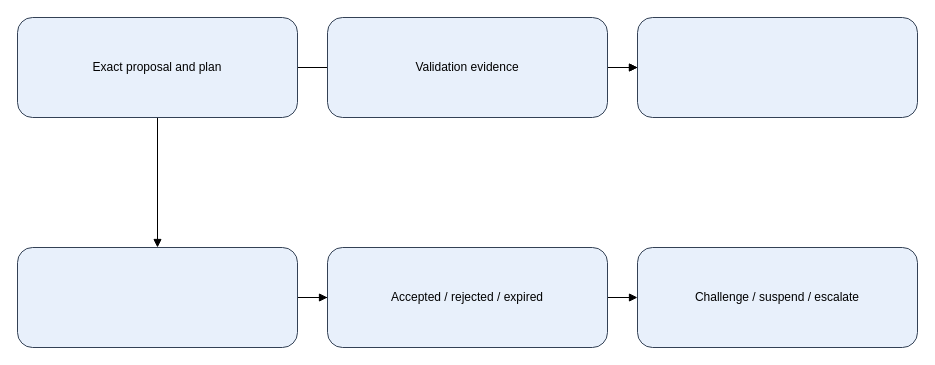
The diagram is 935 pixels wide and 365 high, and some of its shapes have lost their labels. Each missing label, with the centre of its shape:
Committee policy and vote: point 157,297
Scoped admission: point 777,67
